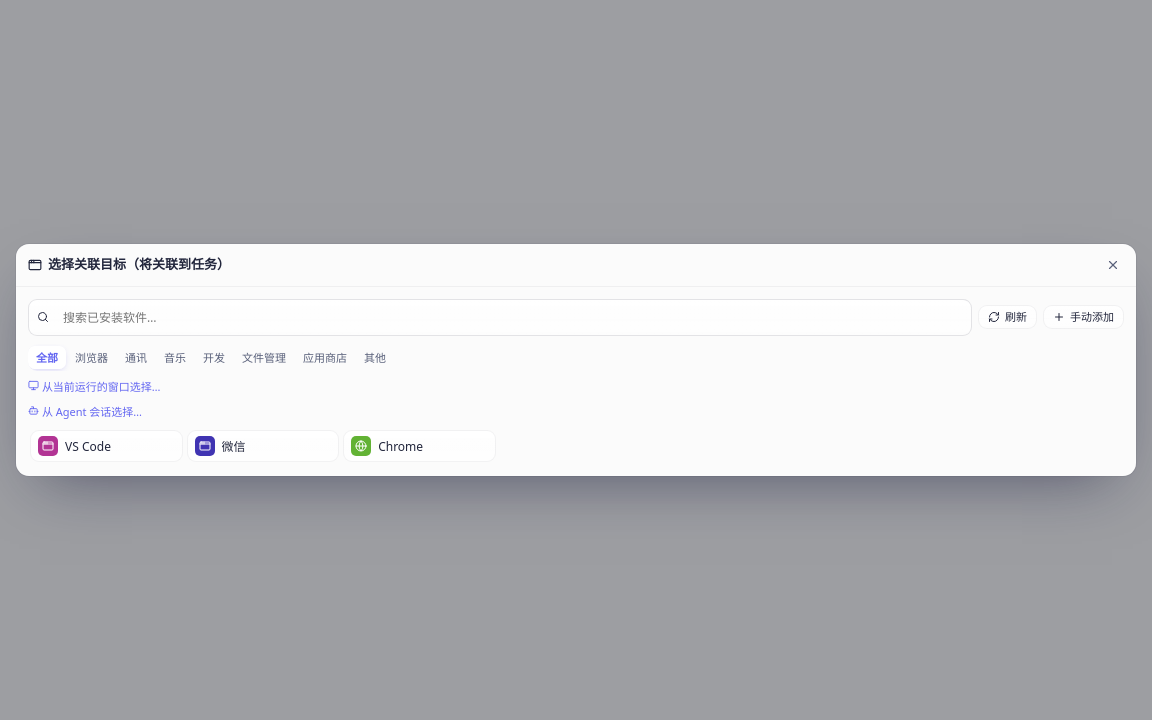
AppPicker › 渲染应用列表；搜索框输入与分类按钮切换都能过滤列表
Expected: the text "VS Code" is shown, 65,438 -> 111,455
Expected: the text "微信" is shown, 222,438 -> 246,455
搜索过滤：命中 Chrome，其余隐藏
Type "chr" into the field named "搜索应用".
click(509, 317); type("chr")  # box 55,304 -> 963,331
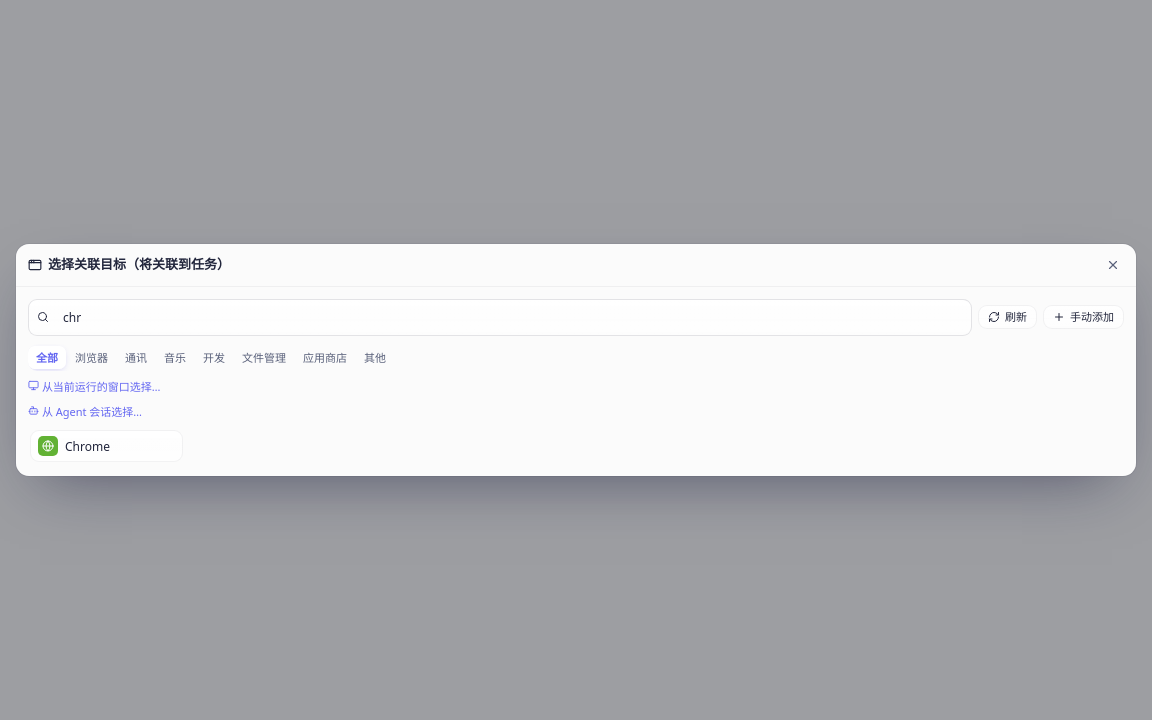
Expected: the text "Chrome" is shown, 65,438 -> 110,455
Expected: the option "VS Code" is gone
Expected: the option "微信" is gone
清空搜索后用分类按钮过滤：通讯类只剩微信
Clear the field named "搜索应用" at (509, 317), box 55,304 -> 963,331
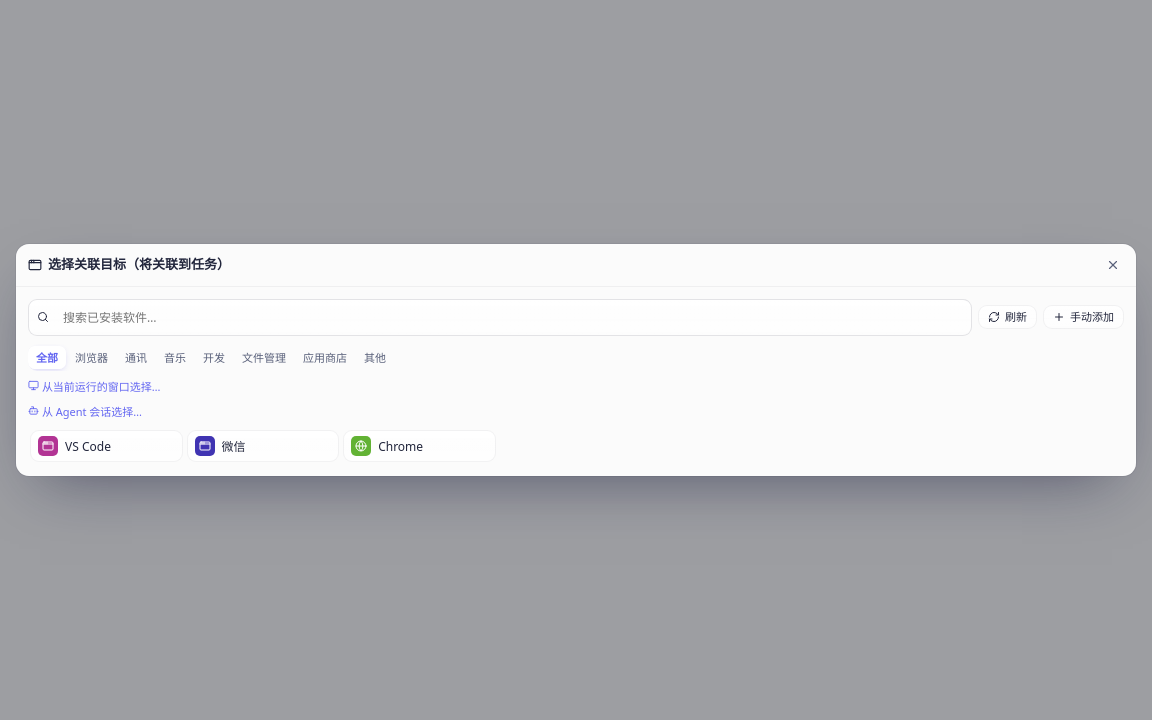
Click the button "通讯".
click(136, 357)  # box 117,346 -> 155,369
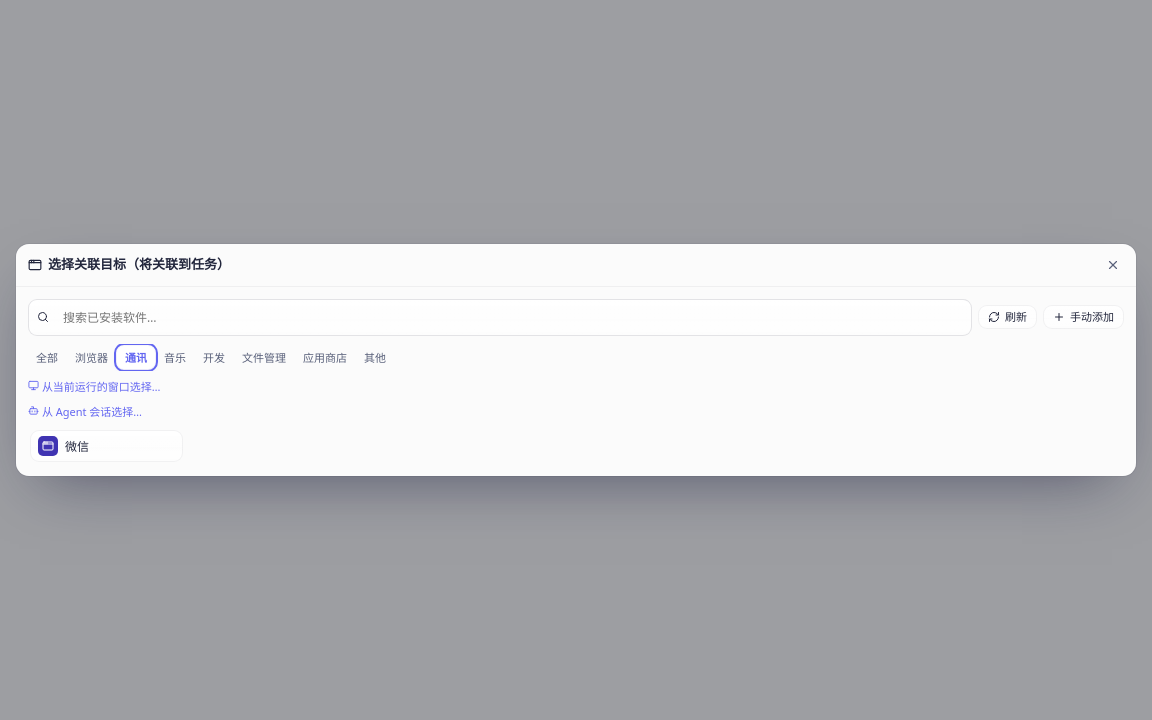
Expected: the text "微信" is shown, 65,438 -> 89,455
Expected: the option "VS Code" is gone
Expected: the option "Chrome" is gone
